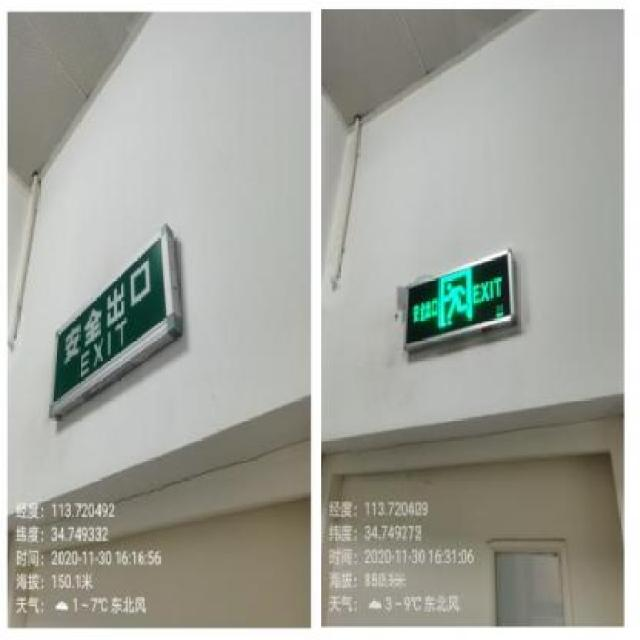exit_sign: (32, 223, 182, 422), (389, 252, 521, 351)
